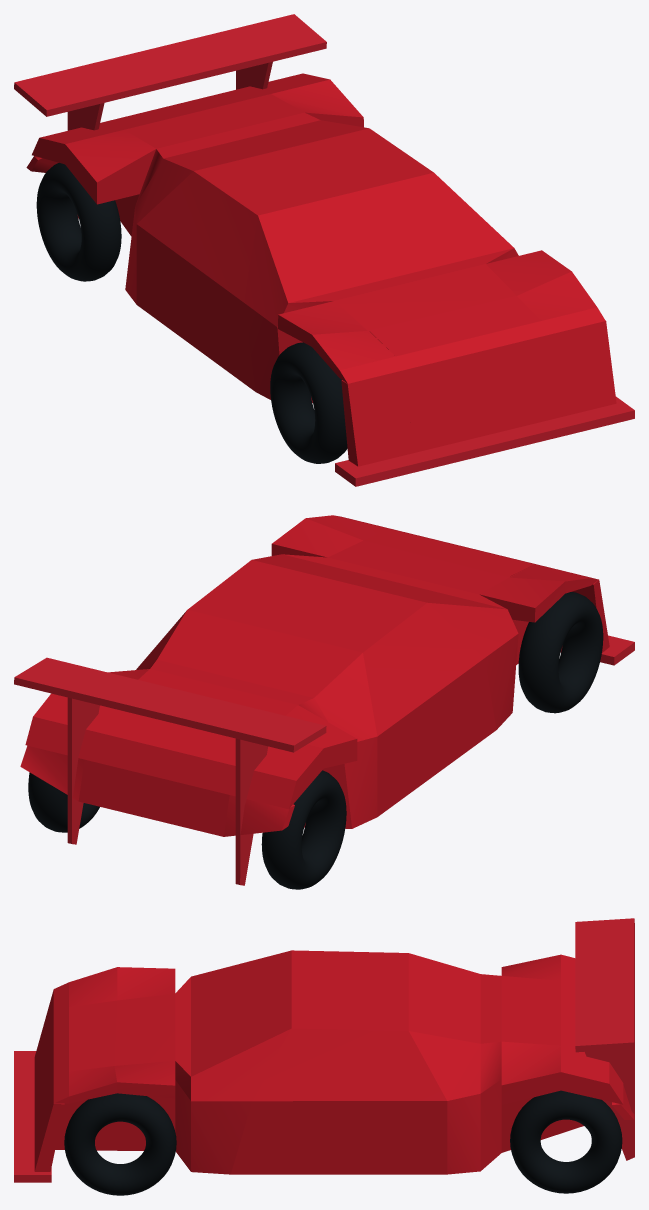
The picture shows the model from 3 angles, top to bottom: view 1: azimuth 30°, elevation 25°; view 2: azimuth 150°, elevation 25°; view 3: azimuth 270°, elevation 25°; orthographic projection. The views are drawn at different scales.
Visible parts, largest first — view 1: Caja_2, rear_diffuser_architecture, wheel_front_right__RIGHT_NEGATIVE_X, wheel_rear_right__RIGHT_NEGATIVE_X, Caja; view 2: Caja_2, rear_diffuser_architecture, wheel_front_right__RIGHT_NEGATIVE_X, wheel_rear_right__RIGHT_NEGATIVE_X, wheel_rear_left__LEFT_POSITIVE_X, Caja; view 3: Caja_2, rear_diffuser_architecture, wheel_front_left__LEFT_POSITIVE_X, wheel_rear_left__LEFT_POSITIVE_X, Caja.
Part boxes in pixels (bbox=[...]): Caja_2: bbox=[26, 73, 616, 466]; rear_diffuser_architecture: bbox=[14, 14, 326, 218]; wheel_front_right__RIGHT_NEGATIVE_X: bbox=[270, 342, 347, 463]; wheel_rear_right__RIGHT_NEGATIVE_X: bbox=[36, 163, 121, 281]; Caja: bbox=[335, 396, 634, 486]; Caja_2: bbox=[20, 515, 609, 836]; rear_diffuser_architecture: bbox=[14, 657, 326, 885]; wheel_front_right__RIGHT_NEGATIVE_X: bbox=[518, 592, 603, 713]; wheel_rear_right__RIGHT_NEGATIVE_X: bbox=[261, 770, 346, 889]; wheel_rear_left__LEFT_POSITIVE_X: bbox=[28, 772, 99, 832]; Caja: bbox=[560, 635, 634, 665]; Caja_2: bbox=[34, 950, 634, 1174]; rear_diffuser_architecture: bbox=[575, 918, 634, 1160]; wheel_front_left__LEFT_POSITIVE_X: bbox=[64, 1093, 176, 1195]; wheel_rear_left__LEFT_POSITIVE_X: bbox=[510, 1090, 622, 1193]; Caja: bbox=[14, 1051, 51, 1182].
Size of the model in its own units: 2.27 by 1.32 by 4.71.
